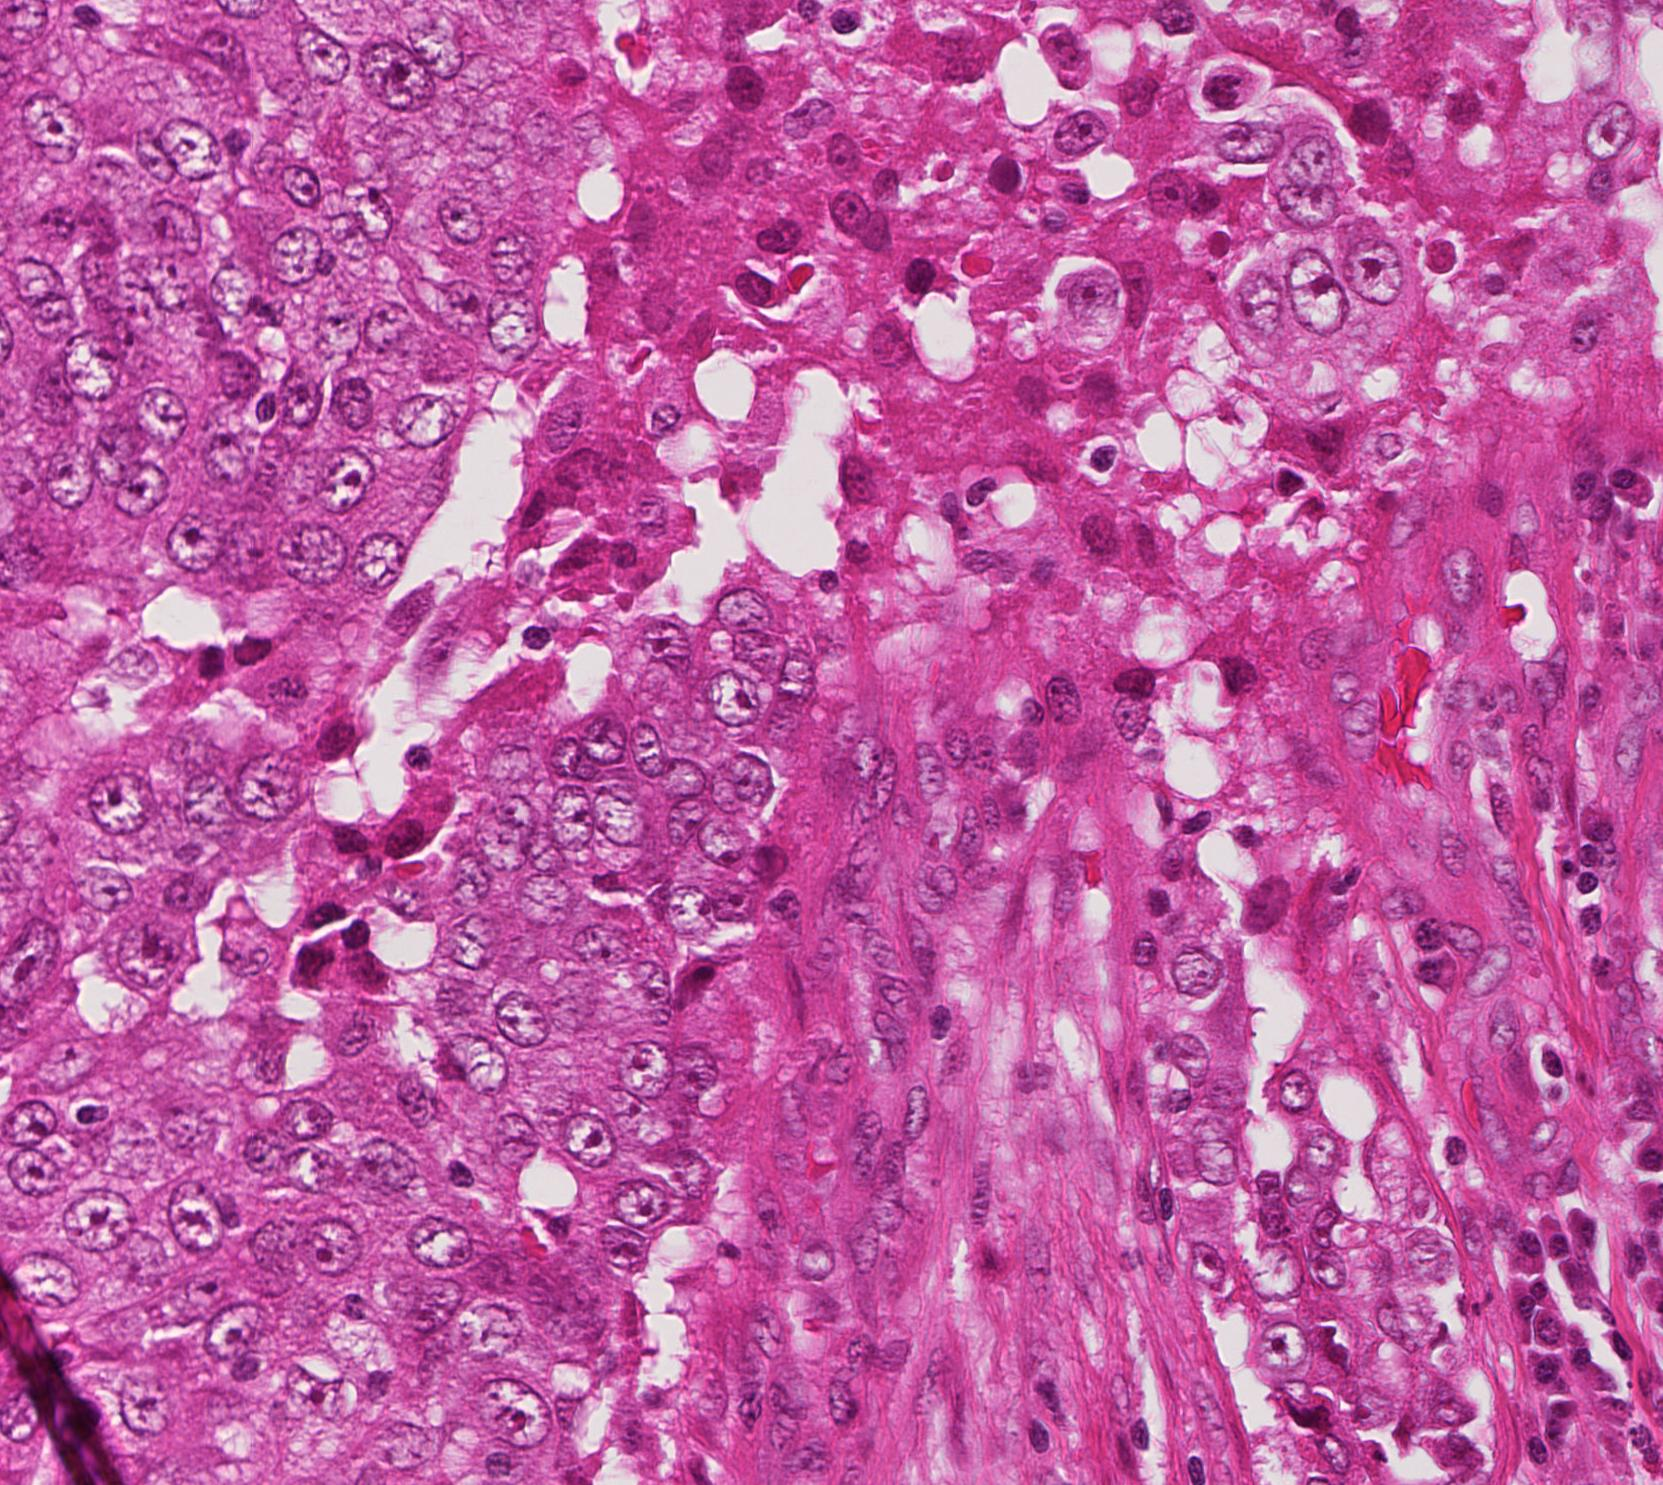mitosis: (228, 277, 288, 337)
